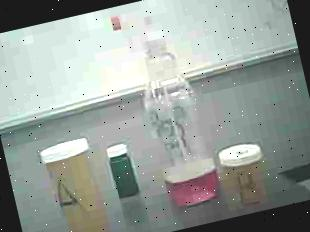Bottle A: (27, 126, 123, 232)
Bottle B: (215, 130, 281, 216)
Bottle C: (102, 135, 148, 205)
hazard: (103, 0, 227, 220)
